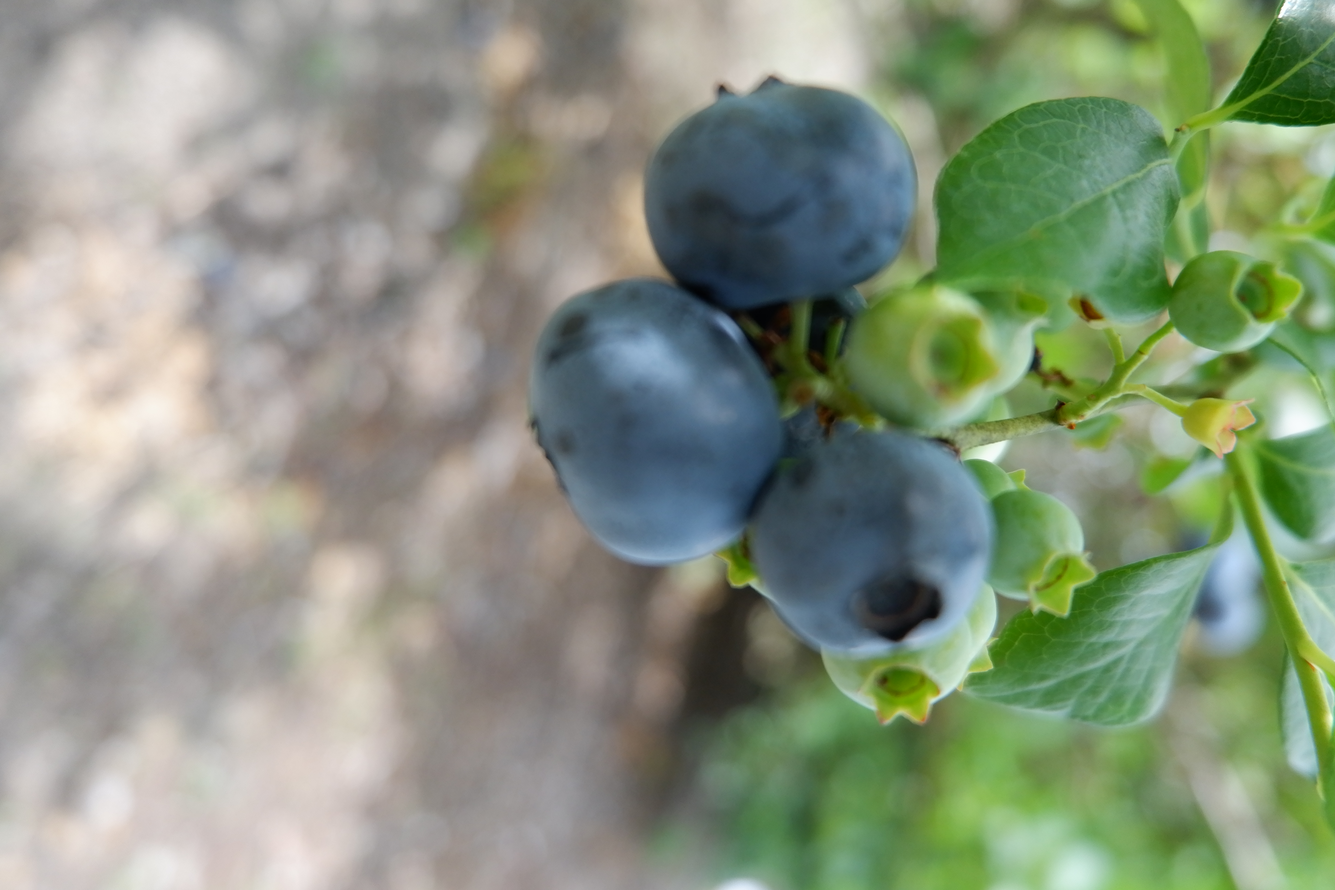Immature: (845, 289, 1000, 432), (825, 618, 971, 717), (991, 489, 1098, 620), (1168, 251, 1302, 352), (965, 582, 998, 673), (961, 458, 1030, 498)
Mature: (533, 282, 778, 556), (646, 84, 916, 303), (755, 435, 991, 650)
